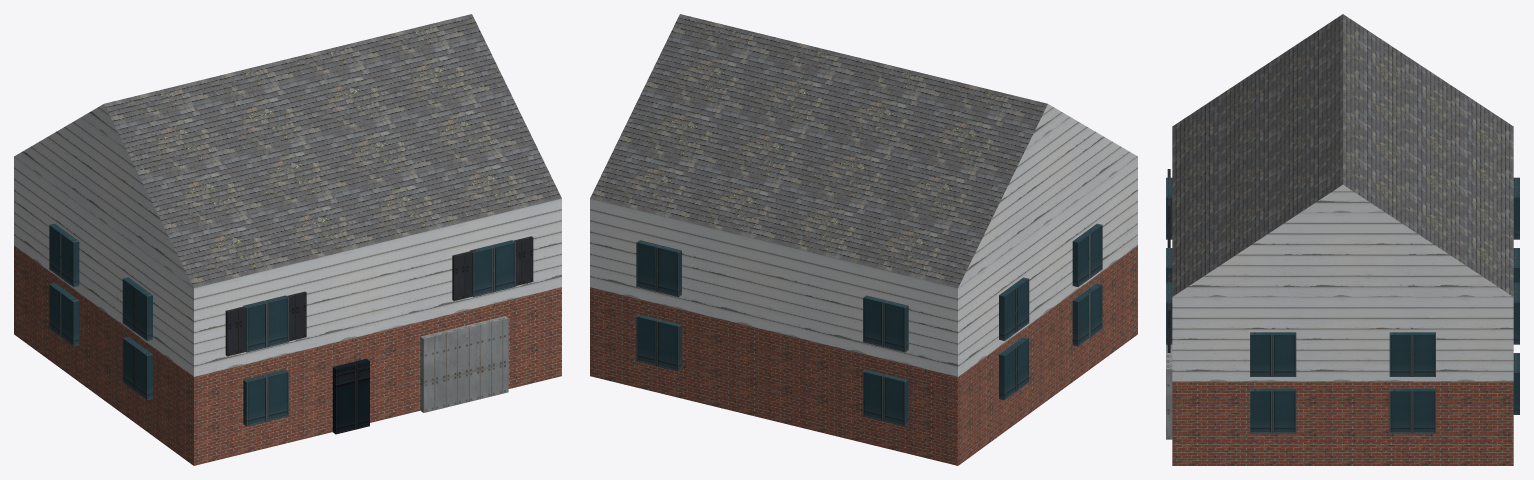
File: colonial-house_lod0.gltf
The picture shows the model from 3 angles, left to right: view 1: azimuth 30°, elevation 25°; view 2: azimuth 150°, elevation 25°; view 3: azimuth 270°, elevation 25°; orthographic projection. The views are drawn at different scales.
Visible parts, largest first — view 1: colonial-house_roof, colonial-house_walls, colonial-house_base, colonial-house_fen_07-glass-curtain-blue_0, colonial-house_gable_ends, colonial-house__garage_door, colonial-house_fen_07-glass-curtain-blue_1_t, colonial-house__shutter_c, colonial-house__shutter_a, colonial-house__shutter_d, colonial-house__shutter_b; view 2: colonial-house_roof, colonial-house_base, colonial-house_walls, colonial-house_fen_07-glass-curtain-blue_0, colonial-house_gable_ends; view 3: colonial-house_roof, colonial-house_base, colonial-house_walls, colonial-house_gable_ends, colonial-house_fen_07-glass-curtain-blue_0, colonial-house__garage_door.
Boxes of the visible parts, x1=… form: colonial-house_roof: x1=104, y1=14, x2=561, y2=287; colonial-house_walls: x1=14, y1=157, x2=561, y2=376; colonial-house_base: x1=14, y1=245, x2=561, y2=465; colonial-house_fen_07-glass-curtain-blue_0: x1=49, y1=223, x2=515, y2=426; colonial-house_gable_ends: x1=14, y1=104, x2=193, y2=287; colonial-house__garage_door: x1=420, y1=316, x2=508, y2=412; colonial-house_fen_07-glass-curtain-blue_1_t: x1=332, y1=358, x2=369, y2=434; colonial-house__shutter_c: x1=452, y1=250, x2=476, y2=300; colonial-house__shutter_a: x1=225, y1=306, x2=245, y2=356; colonial-house__shutter_d: x1=513, y1=236, x2=533, y2=285; colonial-house__shutter_b: x1=283, y1=291, x2=306, y2=341; colonial-house_roof: x1=590, y1=14, x2=1047, y2=287; colonial-house_base: x1=590, y1=245, x2=1137, y2=465; colonial-house_walls: x1=590, y1=157, x2=1137, y2=376; colonial-house_fen_07-glass-curtain-blue_0: x1=636, y1=223, x2=1102, y2=426; colonial-house_gable_ends: x1=958, y1=104, x2=1137, y2=287; colonial-house_roof: x1=1172, y1=14, x2=1513, y2=296; colonial-house_base: x1=1172, y1=381, x2=1513, y2=465; colonial-house_walls: x1=1172, y1=297, x2=1513, y2=381; colonial-house_gable_ends: x1=1173, y1=185, x2=1512, y2=296; colonial-house_fen_07-glass-curtain-blue_0: x1=1166, y1=177, x2=1519, y2=433; colonial-house__garage_door: x1=1166, y1=344, x2=1172, y2=439.
Size of the model in its own units: 13.4 by 10 by 11.4.
